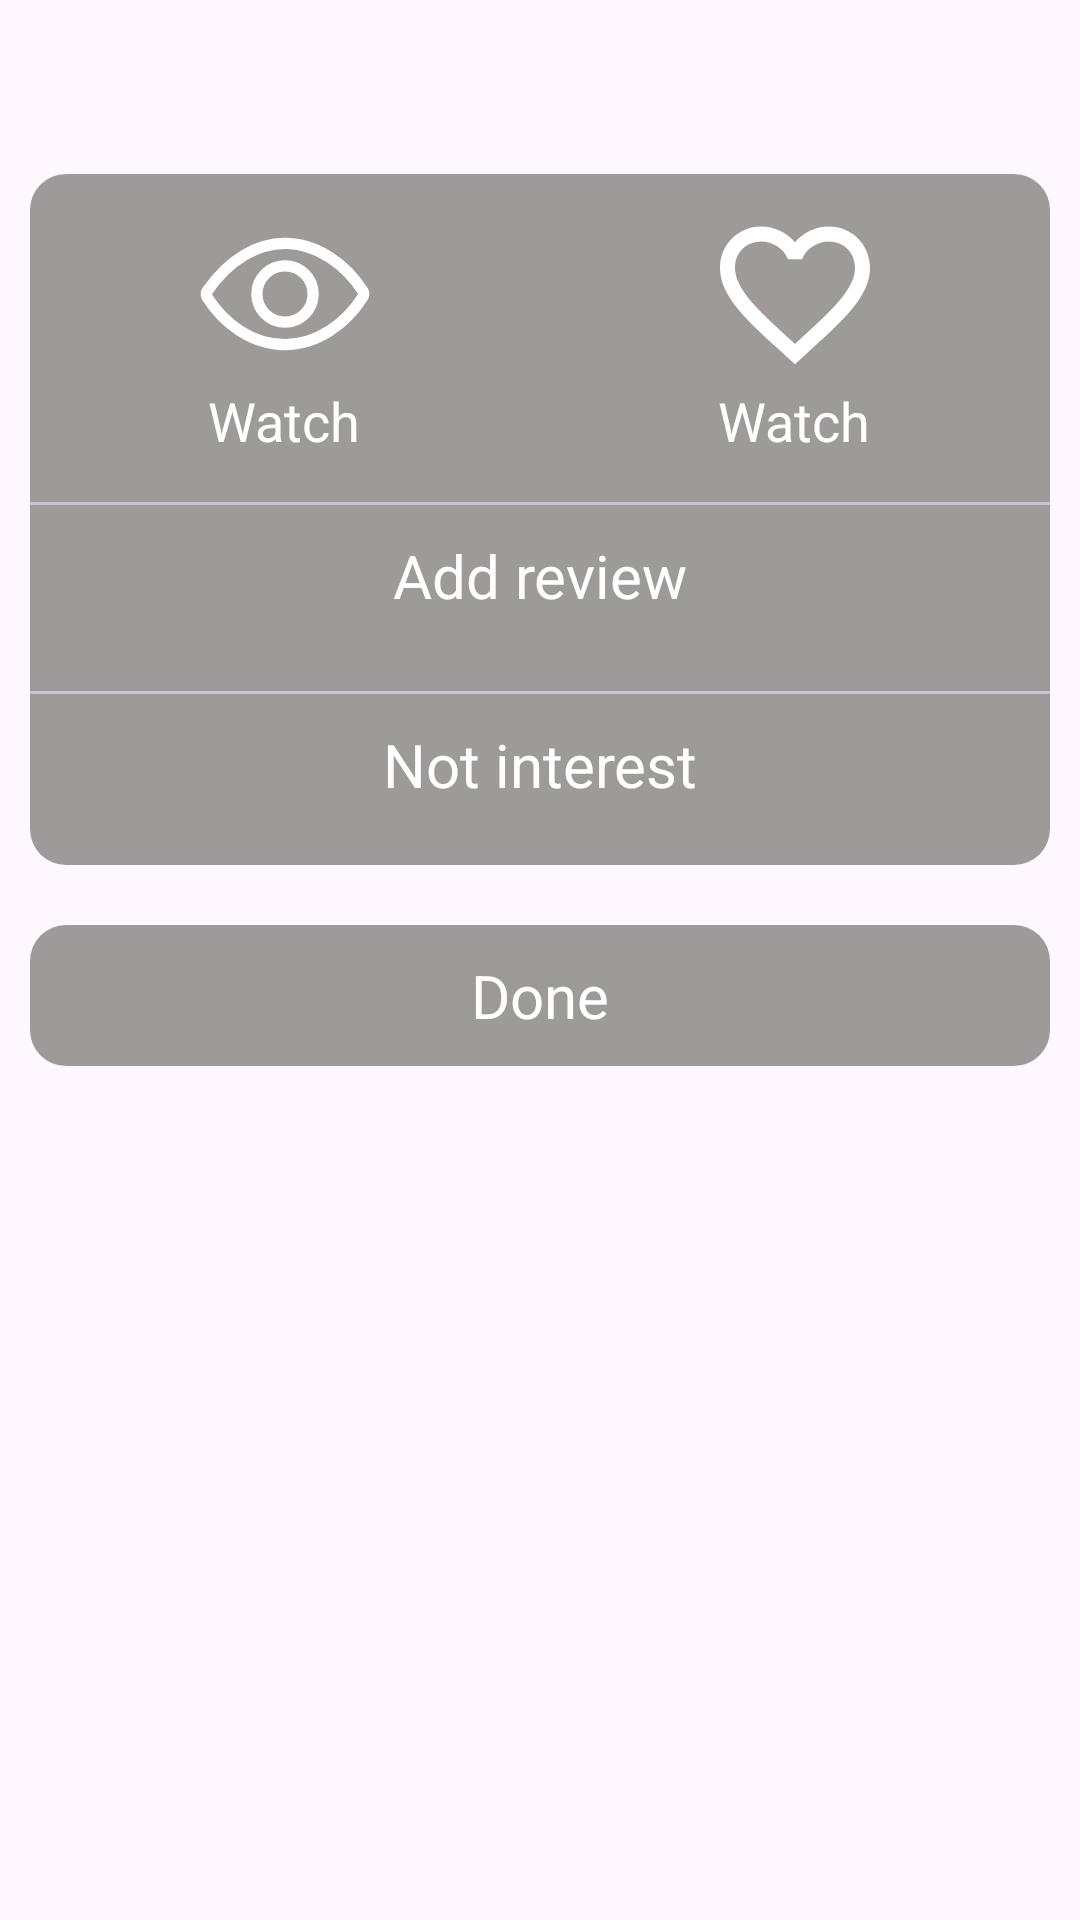

Where to tap for icons on this 1080*1920 app screen, as point (x, y):
favorite border: point (795, 295)
